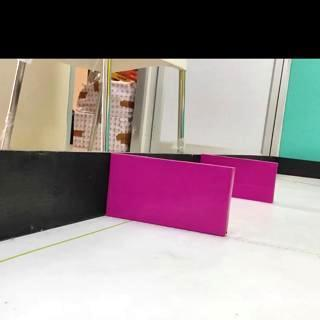xparking: (106, 153, 235, 237), (233, 158, 277, 203)
